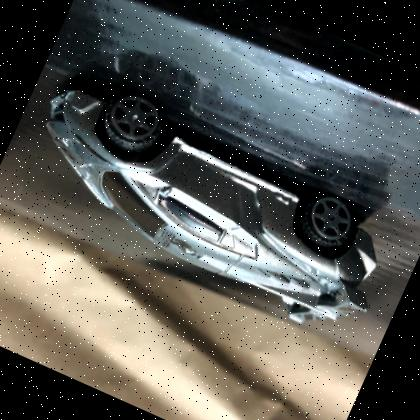Car: (46, 87, 378, 320)
